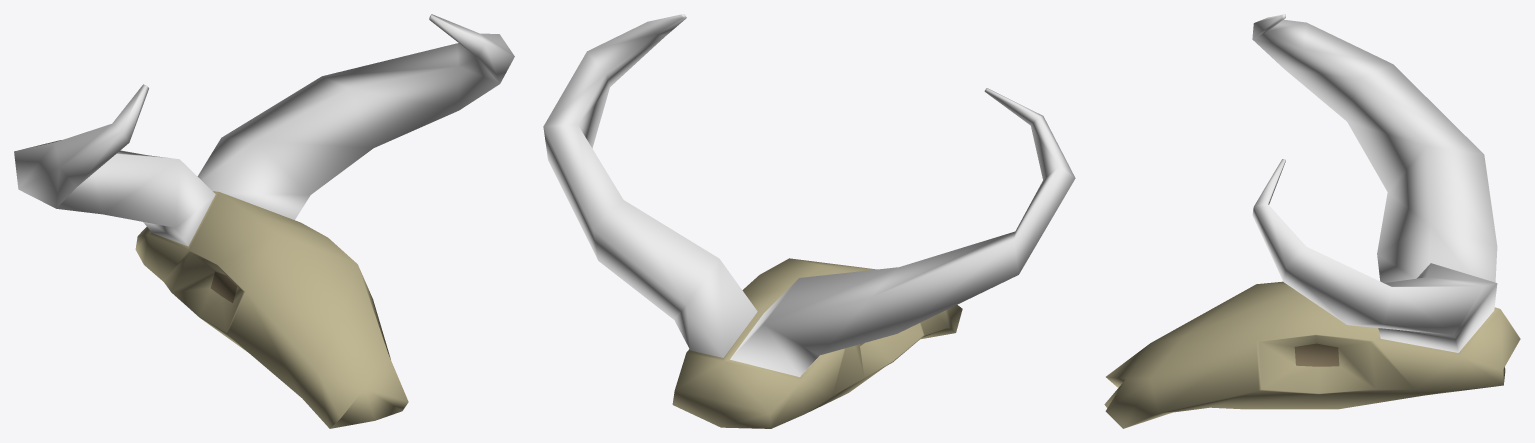
The model's file is sheepSkull.glb.
3 views of the same model, side by side, from view 1: azimuth 30°, elevation 25°; view 2: azimuth 150°, elevation 25°; view 3: azimuth 270°, elevation 25° (orthographic). The views are drawn at different scales.
Visible parts, largest first — view 1: Head; view 2: Head; view 3: Head.
Boxes of the visible parts, box(x1,y1,x2,y2) form: Head: box(14, 14, 514, 428); Head: box(543, 14, 1075, 428); Head: box(1104, 14, 1520, 428).
Bounding box in the file's own units: 1.04 × 0.6869 × 0.7955.
